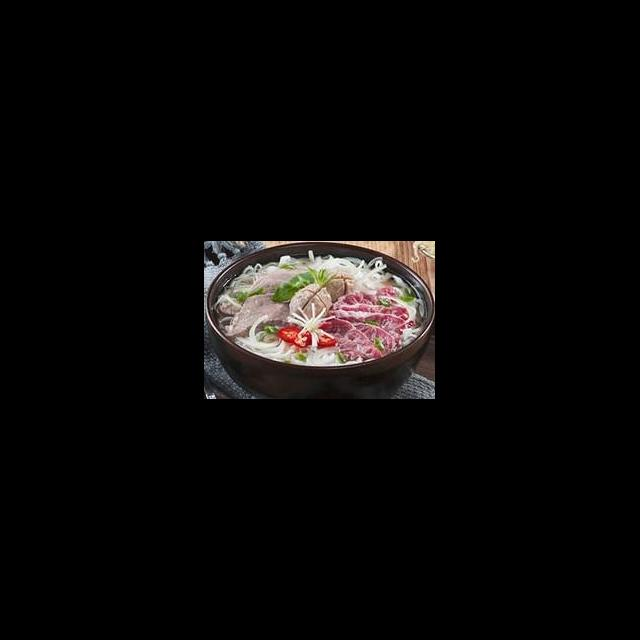banh pho: (232, 329, 344, 369), (286, 247, 390, 286)
pho bo: (205, 251, 435, 397)
thit bo: (222, 262, 316, 339), (326, 307, 410, 348), (318, 315, 386, 364), (329, 301, 422, 333), (331, 283, 408, 318), (346, 320, 400, 358)
